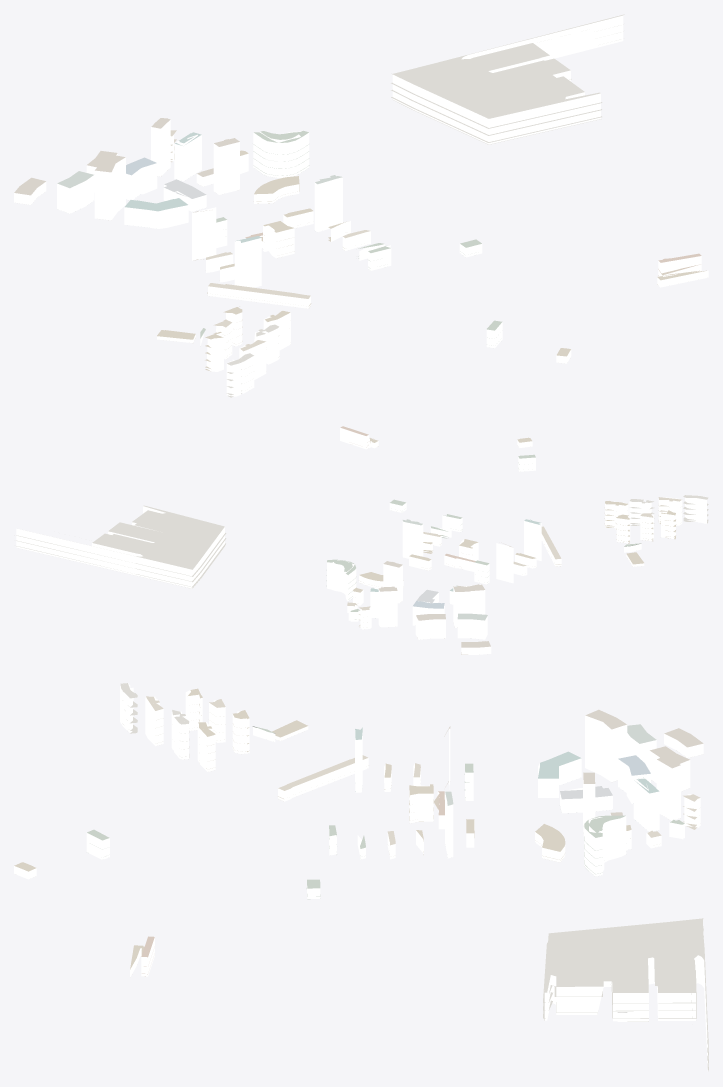
File: buildings--10_3-coarse.glb
The picture shows the model from 3 angles, top to bottom: view 1: azimuth 30°, elevation 25°; view 2: azimuth 150°, elevation 25°; view 3: azimuth 270°, elevation 25°; orthographic projection. The views are drawn at different scales.
Parts seen in each view (by area): view 1: block_-10_3_residential, block_-10_3_roof, block_-10_3_office; view 2: block_-10_3_residential, block_-10_3_roof, block_-10_3_office; view 3: block_-10_3_roof, block_-10_3_residential, block_-10_3_office.
Boxes of the visible parts, x1=… form: block_-10_3_residential: x1=157, y1=15, x2=708, y2=396; block_-10_3_roof: x1=14, y1=14, x2=706, y2=397; block_-10_3_office: x1=14, y1=120, x2=342, y2=287; block_-10_3_residential: x1=16, y1=427, x2=706, y2=629; block_-10_3_roof: x1=14, y1=426, x2=708, y2=654; block_-10_3_office: x1=370, y1=521, x2=541, y2=654; block_-10_3_roof: x1=14, y1=683, x2=708, y2=1071; block_-10_3_residential: x1=14, y1=683, x2=707, y2=1071; block_-10_3_office: x1=355, y1=715, x2=703, y2=858.
Size of the model in its own units: 783 by 59.2 by 646.
